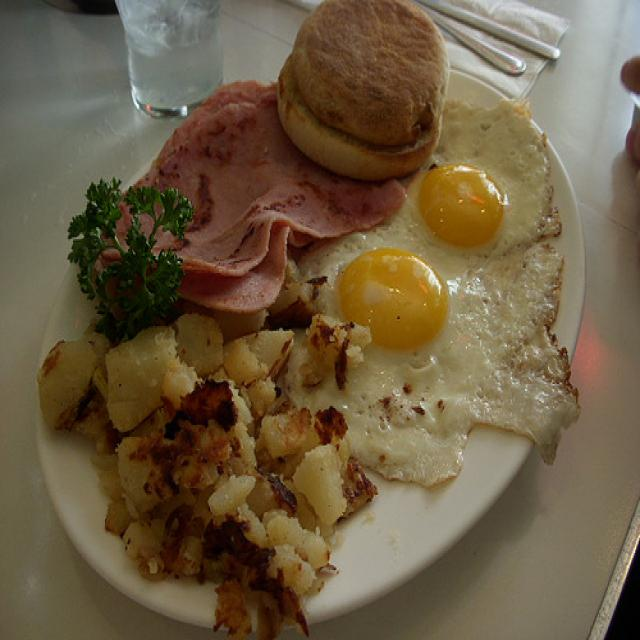鸡蛋料理: (308, 112, 596, 486)
